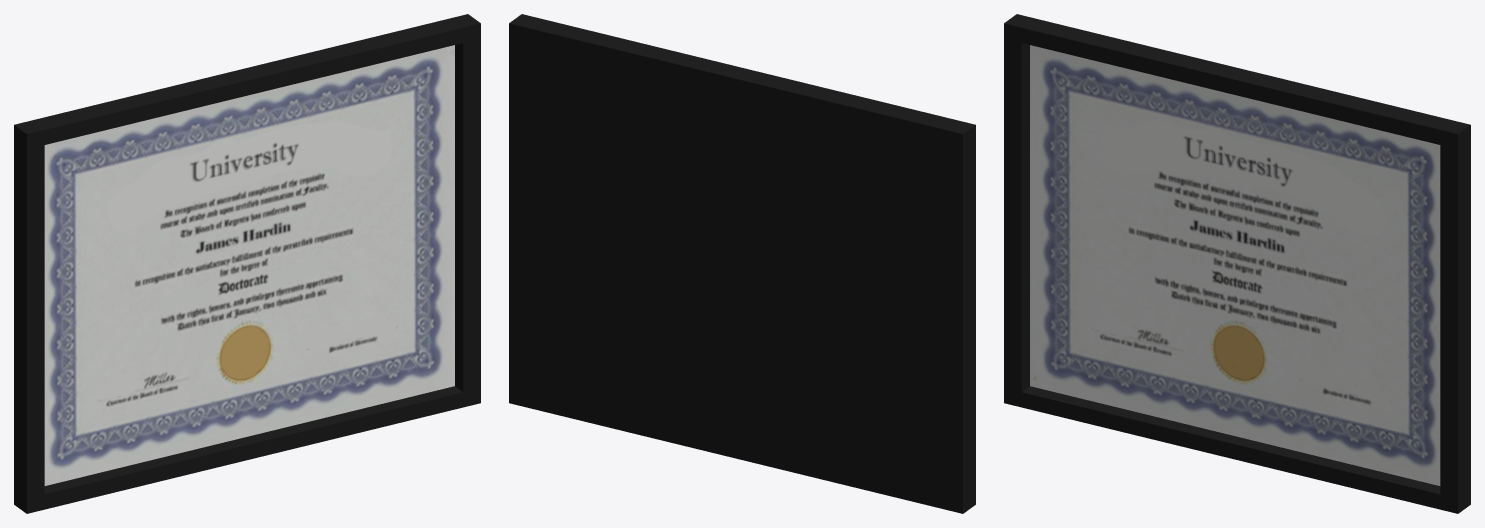
Rendered from Certificate 2.FBX.
3 views of the same model, side by side, from view 1: azimuth 30°, elevation 25°; view 2: azimuth 150°, elevation 25°; view 3: azimuth 330°, elevation 25° (orthographic).
Parts seen in each view (by area): view 1: Certificate 2; view 2: Certificate 2; view 3: Certificate 2.
Boxes of the visible parts, x1,y1,x2,y2 form: Certificate 2: [14, 14, 480, 513]; Certificate 2: [509, 14, 975, 513]; Certificate 2: [1004, 14, 1470, 513].
Bounding box in the file's own units: 40.03 × 31.99 × 1.96.
Materials: 1 (1 with a texture image).
